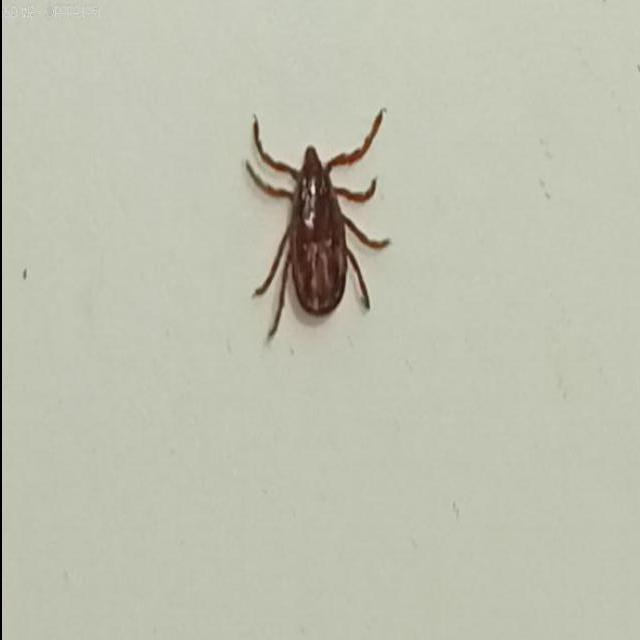Rhipicephalus Sanguineus-F: (241, 106, 390, 343)
